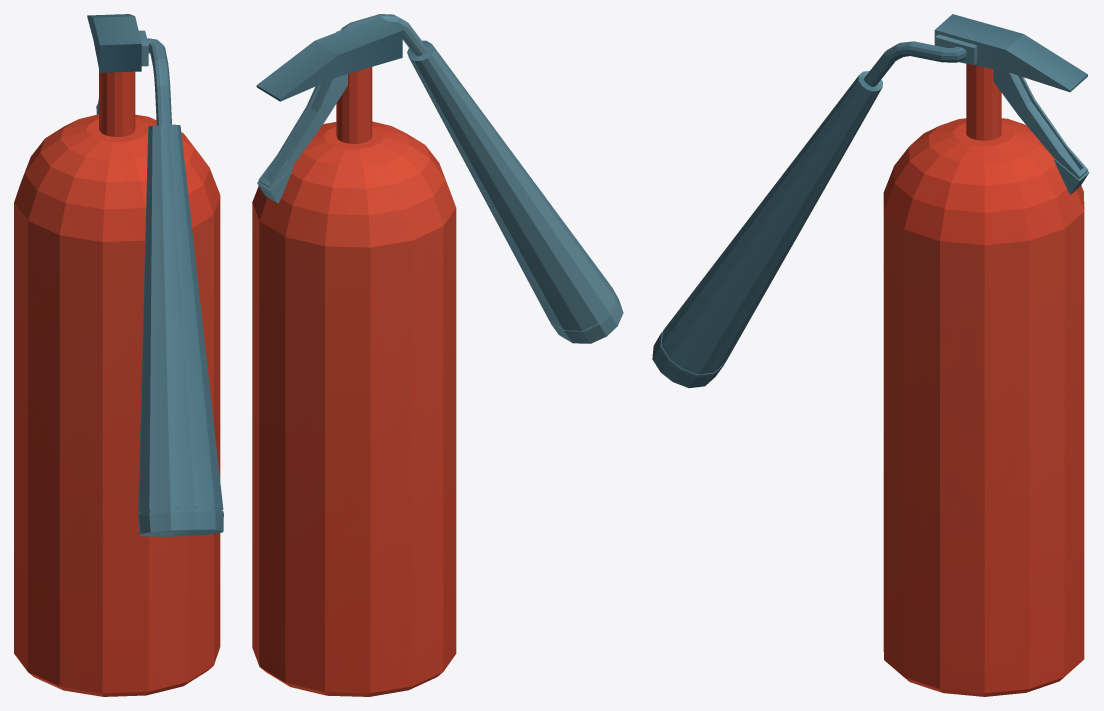
Rendered from fire_extinguisher.obj.
3 views of the same model, side by side, from view 1: azimuth 30°, elevation 25°; view 2: azimuth 150°, elevation 25°; view 3: azimuth 270°, elevation 25° (orthographic).
Parts seen in each view (by area): view 1: falsk_Material, nozzle_Material, top_Material; view 2: falsk_Material, nozzle_Material, top_Material, handle_Material; view 3: falsk_Material, nozzle_Material, top_Material, handle_Material.
Part boxes in pixels (x1,y1,x2,y2): falsk_Material: (14, 70, 220, 696); nozzle_Material: (138, 38, 223, 536); top_Material: (87, 14, 148, 72); falsk_Material: (252, 67, 456, 696); nozzle_Material: (341, 14, 623, 343); top_Material: (256, 16, 402, 101); handle_Material: (257, 74, 347, 203); falsk_Material: (883, 63, 1084, 696); nozzle_Material: (652, 41, 966, 388); top_Material: (934, 14, 1087, 92); handle_Material: (993, 69, 1089, 194).
Size of the model in its own units: 0.1831 by 0.5228 by 0.3307.
